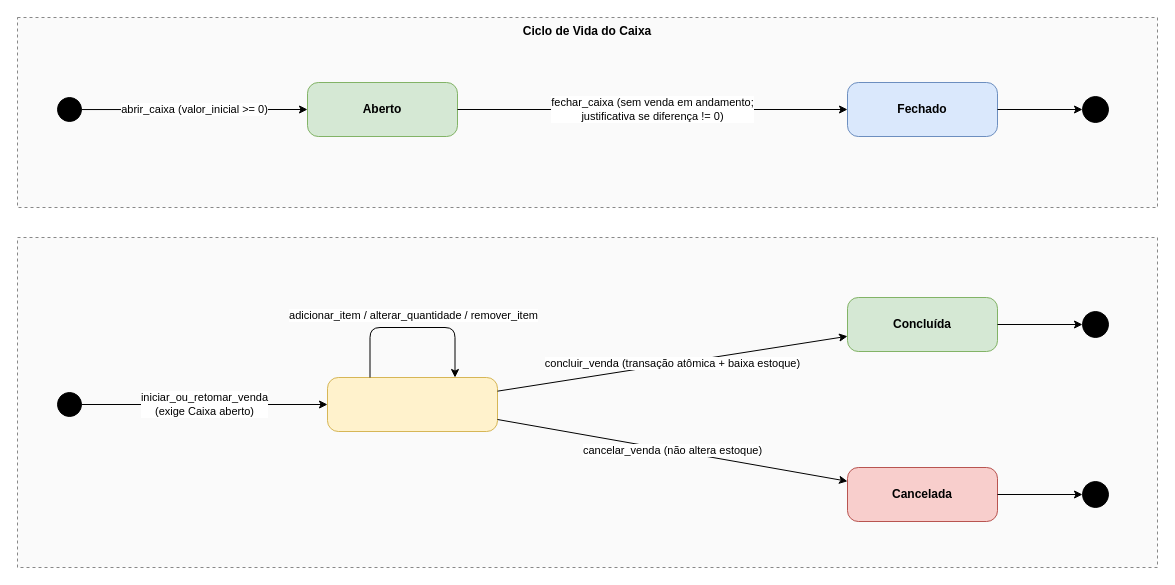
The diagram is 1175 pixels wide and 585 high, and some of its shapes have lost their labels. Each missing label, with the box of its shape:
Ciclo de Vida da Venda: (16, 236, 1158, 568)
Em andamento: (326, 376, 498, 432)
